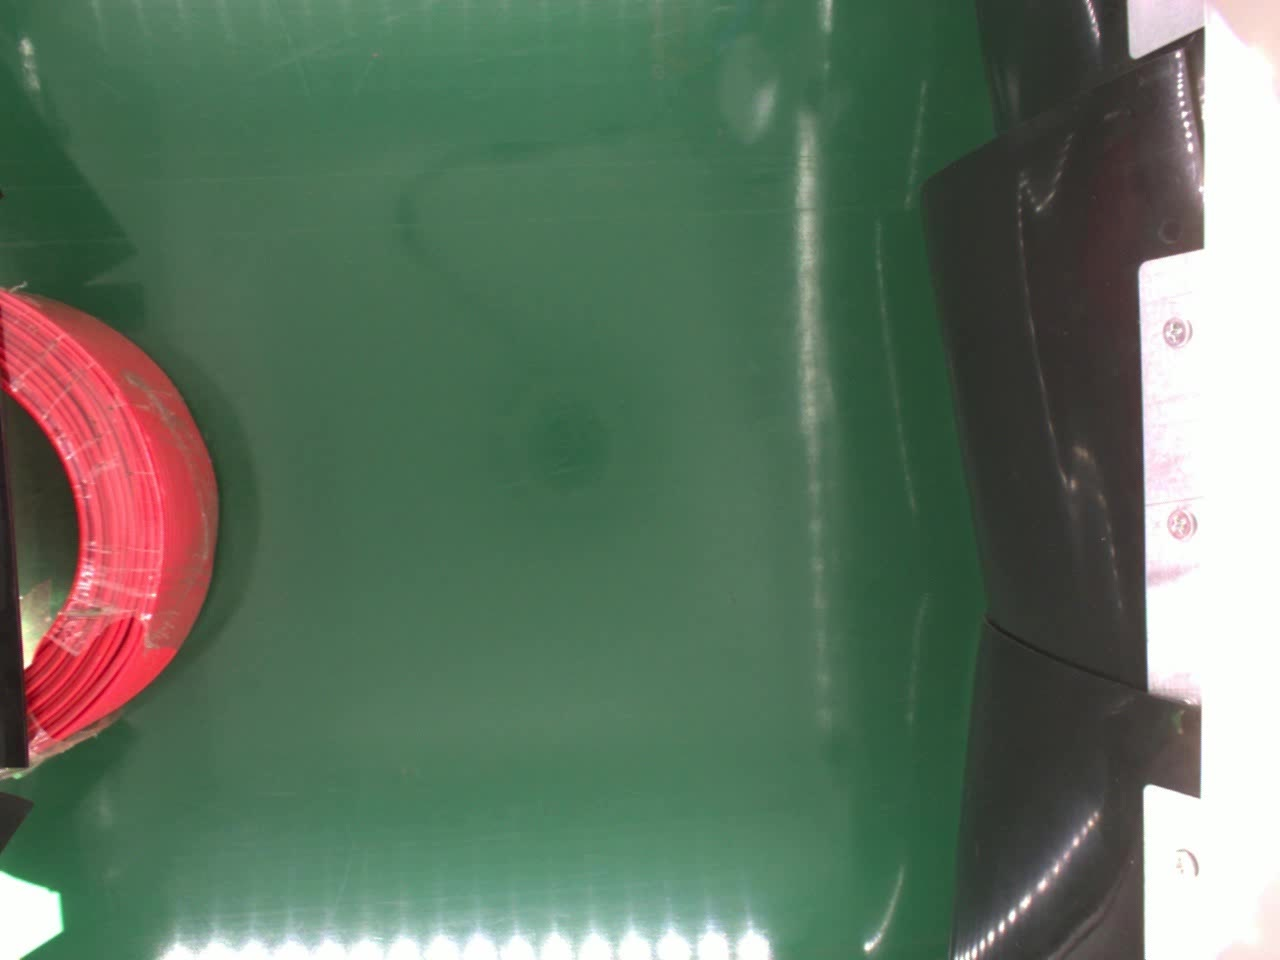red: (0, 279, 220, 759)
